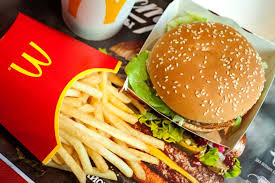mcdonalds: (7, 34, 55, 77)
